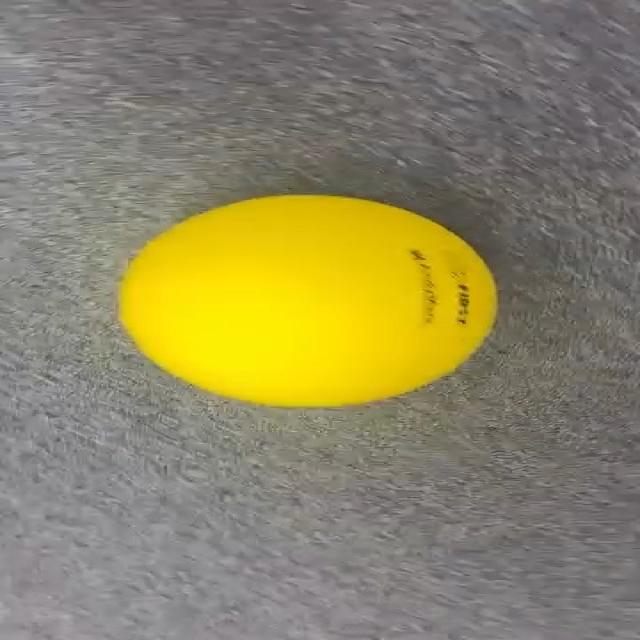Fuels: (119, 195, 492, 404)
